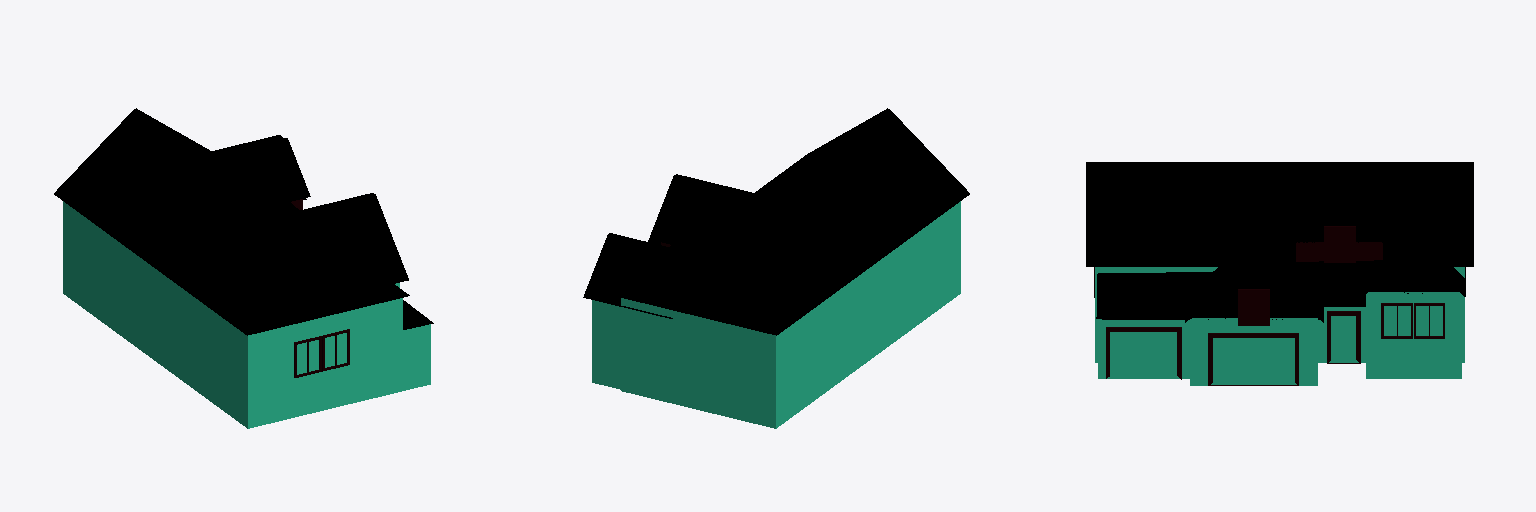
The model's file is family_house.obj.
3 views of the same model, side by side, from view 1: azimuth 30°, elevation 25°; view 2: azimuth 150°, elevation 25°; view 3: azimuth 270°, elevation 25° (orthographic).
Visible parts, largest first — view 1: Roof, Main, Cube.001, Cube.005, Cube.007; view 2: Roof, Main, Cube.005, Cube.003, Cube.002, Cube.001; view 3: Roof, Cube.002, Cube.004, Cube.001, Cube.008, Cube.007, Cube.003, Cube.009, Cube.005, Main, Window, Window.001 (+4 smaller).
Boxes of the visible parts, x1,y1,x2,y2 form: Roof: [54, 108, 409, 335]; Main: [63, 201, 402, 428]; Cube.001: [290, 193, 408, 283]; Cube.005: [205, 138, 310, 201]; Cube.007: [352, 324, 430, 403]; Roof: [614, 108, 969, 335]; Main: [621, 201, 960, 428]; Cube.005: [654, 181, 759, 245]; Cube.003: [583, 233, 682, 318]; Cube.002: [592, 300, 620, 389]; Cube.001: [648, 174, 759, 244]; Roof: [1086, 162, 1473, 266]; Cube.002: [1366, 292, 1461, 378]; Cube.004: [1190, 318, 1317, 385]; Cube.001: [1185, 221, 1323, 322]; Cube.008: [1096, 272, 1212, 319]; Cube.007: [1098, 319, 1189, 378]; Cube.003: [1363, 216, 1465, 296]; Cube.009: [1276, 223, 1403, 306]; Cube.005: [1292, 165, 1386, 245]; Main: [1095, 267, 1464, 362]; Window: [1238, 289, 1269, 325]; Window.001: [1324, 226, 1355, 262].
Bounding box in the file's own units: 6.79 × 5.04 × 10.77.